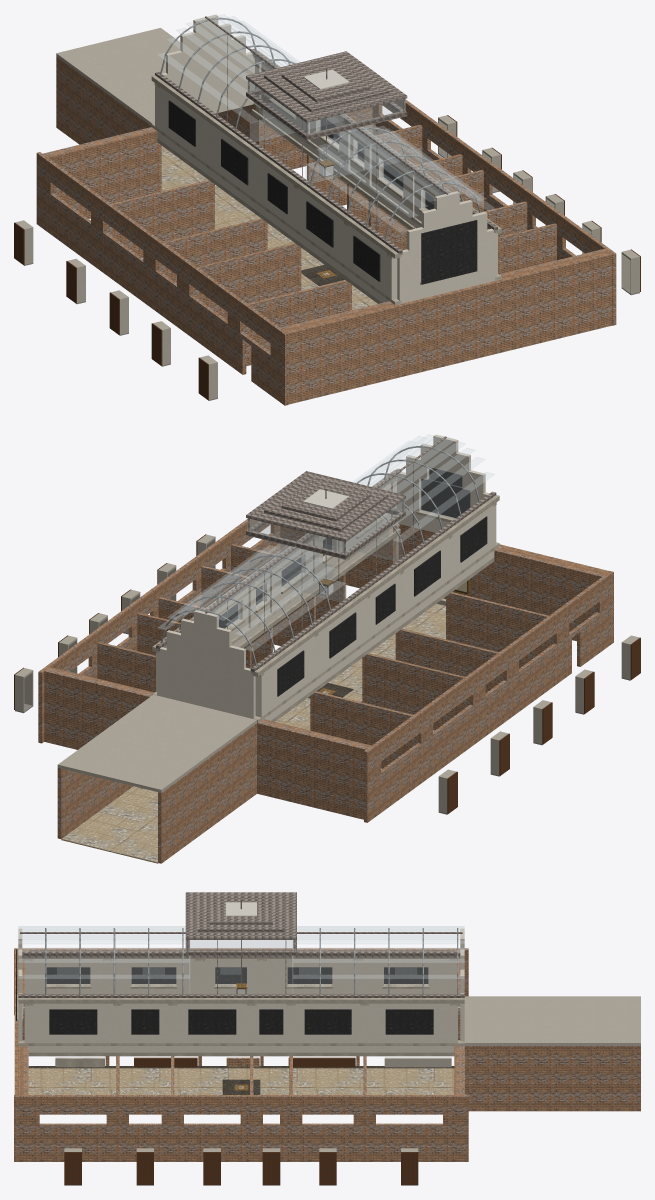
The model's file is passage.gltf.
3 views of the same model, one above another, from view 1: azimuth 30°, elevation 25°; view 2: azimuth 150°, elevation 25°; view 3: azimuth 270°, elevation 25° (orthographic). The views are drawn at different scales.
Visible parts, largest first — view 1: F01_OWN_PASSAGE_retail_passage_shell_common_brick-col, F01_OWN_PASSAGE_retail_passage_shell_plaster-col, F01_OWN_PASSAGE_retail_passage_shell_glassish-col, F01_OWN_PASSAGE_retail_passage_shell_cast_iron-col, F01_OWN_PASSAGE_retail_passage_shell_plaster_stained-col, F01_OWN_PASSAGE_retail_passage_shell_soot-col, F01_OWN_PASSAGE_retail_passage_shell_limestone-col, F01_OWN_PASSAGE_retail_passage_shell_terrazzo-col, F01_OWN_PASSAGE_retail_passage_shell_metal, F01_OWN_PASSAGE_retail_passage_shell_wood_dark-col, F01_OWN_PASSAGE_retail_passage_shell_cast_iron, F01_OWN_PASSAGE_retail_passage_shell_milk_glass-col; view 2: F01_OWN_PASSAGE_retail_passage_shell_common_brick-col, F01_OWN_PASSAGE_retail_passage_shell_plaster-col, F01_OWN_PASSAGE_retail_passage_shell_glassish-col, F01_OWN_PASSAGE_retail_passage_shell_plaster_stained-col, F01_OWN_PASSAGE_retail_passage_shell_cast_iron-col, F01_OWN_PASSAGE_retail_passage_shell_limestone-col, F01_OWN_PASSAGE_retail_passage_shell_terrazzo-col, F01_OWN_PASSAGE_retail_passage_shell_soot-col, F01_OWN_PASSAGE_retail_passage_shell_metal, F01_OWN_PASSAGE_retail_passage_shell_wood_dark-col, F01_OWN_PASSAGE_retail_passage_shell_cast_iron, F01_OWN_PASSAGE_retail_passage_shell_milk_glass-col; view 3: F01_OWN_PASSAGE_retail_passage_shell_common_brick-col, F01_OWN_PASSAGE_retail_passage_shell_plaster-col, F01_OWN_PASSAGE_retail_passage_shell_glassish-col, F01_OWN_PASSAGE_retail_passage_shell_terrazzo-col, F01_OWN_PASSAGE_retail_passage_shell_soot-col, F01_OWN_PASSAGE_retail_passage_shell_cast_iron-col, F01_OWN_PASSAGE_retail_passage_shell_plaster_stained-col, F01_OWN_PASSAGE_retail_passage_shell_limestone-col, F01_OWN_PASSAGE_retail_passage_shell_wood_dark-col, F01_OWN_PASSAGE_retail_passage_shell_terrazzo_dark, F01_OWN_PASSAGE_retail_passage_shell_metal, F01_OWN_PASSAGE_retail_passage_shell_cast_iron (+5 smaller).
Part boxes in pixels (x1,y1,x2,y2): F01_OWN_PASSAGE_retail_passage_shell_common_brick-col: (36,56,616,405); F01_OWN_PASSAGE_retail_passage_shell_plaster-col: (155,14,500,305); F01_OWN_PASSAGE_retail_passage_shell_glassish-col: (157,14,495,232); F01_OWN_PASSAGE_retail_passage_shell_cast_iron-col: (155,48,497,255); F01_OWN_PASSAGE_retail_passage_shell_plaster_stained-col: (15,28,639,399); F01_OWN_PASSAGE_retail_passage_shell_soot-col: (168,100,477,284); F01_OWN_PASSAGE_retail_passage_shell_limestone-col: (151,50,503,305); F01_OWN_PASSAGE_retail_passage_shell_terrazzo-col: (161,146,377,310); F01_OWN_PASSAGE_retail_passage_shell_metal: (160,17,480,239); F01_OWN_PASSAGE_retail_passage_shell_wood_dark-col: (14,115,640,399); F01_OWN_PASSAGE_retail_passage_shell_cast_iron: (205,16,448,231); F01_OWN_PASSAGE_retail_passage_shell_milk_glass-col: (303,69,349,175); F01_OWN_PASSAGE_retail_passage_shell_common_brick-col: (38,519,613,863); F01_OWN_PASSAGE_retail_passage_shell_plaster-col: (156,434,496,729); F01_OWN_PASSAGE_retail_passage_shell_glassish-col: (158,434,494,650); F01_OWN_PASSAGE_retail_passage_shell_plaster_stained-col: (15,534,639,813); F01_OWN_PASSAGE_retail_passage_shell_cast_iron-col: (156,468,496,673); F01_OWN_PASSAGE_retail_passage_shell_limestone-col: (152,470,501,733); F01_OWN_PASSAGE_retail_passage_shell_terrazzo-col: (61,603,445,863); F01_OWN_PASSAGE_retail_passage_shell_soot-col: (219,467,487,696); F01_OWN_PASSAGE_retail_passage_shell_metal: (160,446,480,666); F01_OWN_PASSAGE_retail_passage_shell_wood_dark-col: (14,534,640,813); F01_OWN_PASSAGE_retail_passage_shell_cast_iron: (205,436,446,657); F01_OWN_PASSAGE_retail_passage_shell_milk_glass-col: (303,489,348,594); F01_OWN_PASSAGE_retail_passage_shell_common_brick-col: (14,948,640,1161); F01_OWN_PASSAGE_retail_passage_shell_plaster-col: (18,928,464,1052); F01_OWN_PASSAGE_retail_passage_shell_glassish-col: (18,926,464,993); F01_OWN_PASSAGE_retail_passage_shell_terrazzo-col: (28,1068,454,1094); F01_OWN_PASSAGE_retail_passage_shell_soot-col: (16,949,433,1034); F01_OWN_PASSAGE_retail_passage_shell_cast_iron-col: (18,892,464,997); F01_OWN_PASSAGE_retail_passage_shell_plaster_stained-col: (64,996,640,1151); F01_OWN_PASSAGE_retail_passage_shell_limestone-col: (17,957,464,1056); F01_OWN_PASSAGE_retail_passage_shell_wood_dark-col: (64,1152,418,1184); F01_OWN_PASSAGE_retail_passage_shell_terrazzo_dark: (28,1066,454,1094); F01_OWN_PASSAGE_retail_passage_shell_metal: (45,928,458,995); F01_OWN_PASSAGE_retail_passage_shell_cast_iron: (20,899,462,993).
Size of the model in its own units: 26.86 by 12.15 by 36.53.
Materials: 18 (17 with a texture image).
